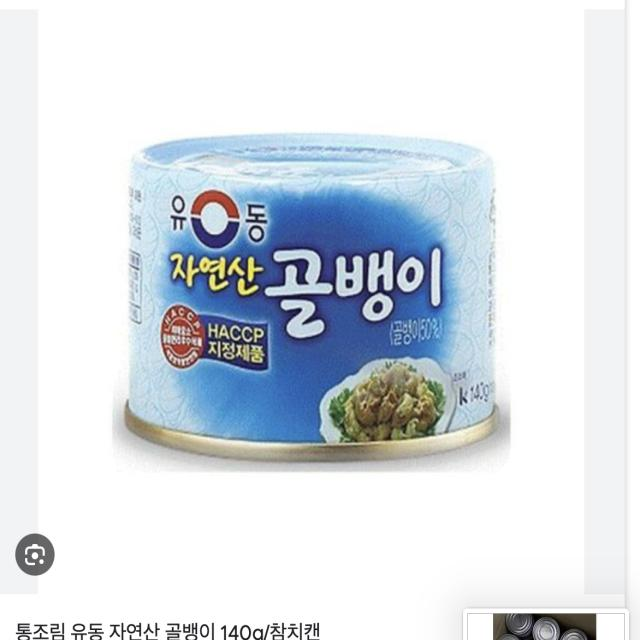recyclable: (99, 104, 520, 485)
